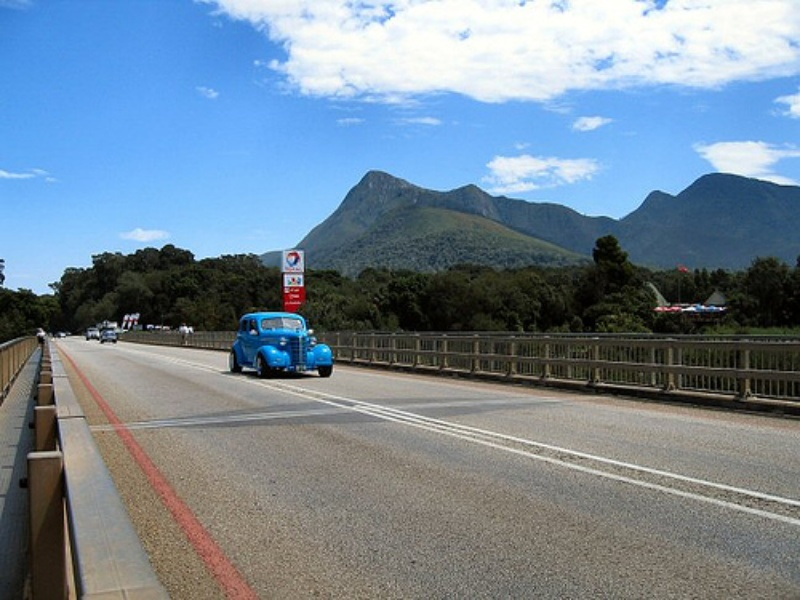car: (229, 311, 333, 378), (101, 331, 117, 344), (86, 327, 100, 341)
